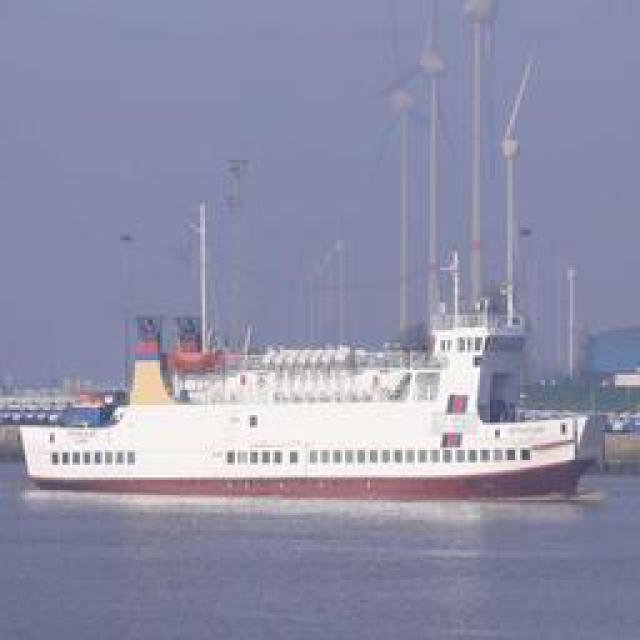Ship: (26, 399, 596, 502)
